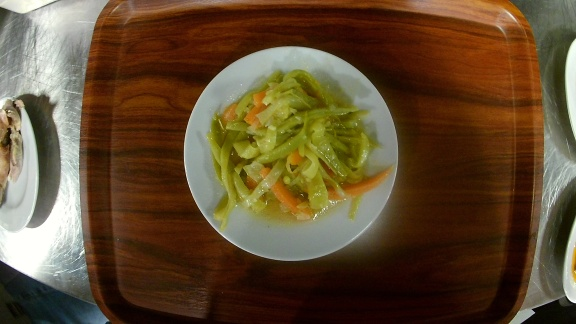tazefasulye: (181, 44, 400, 262)
